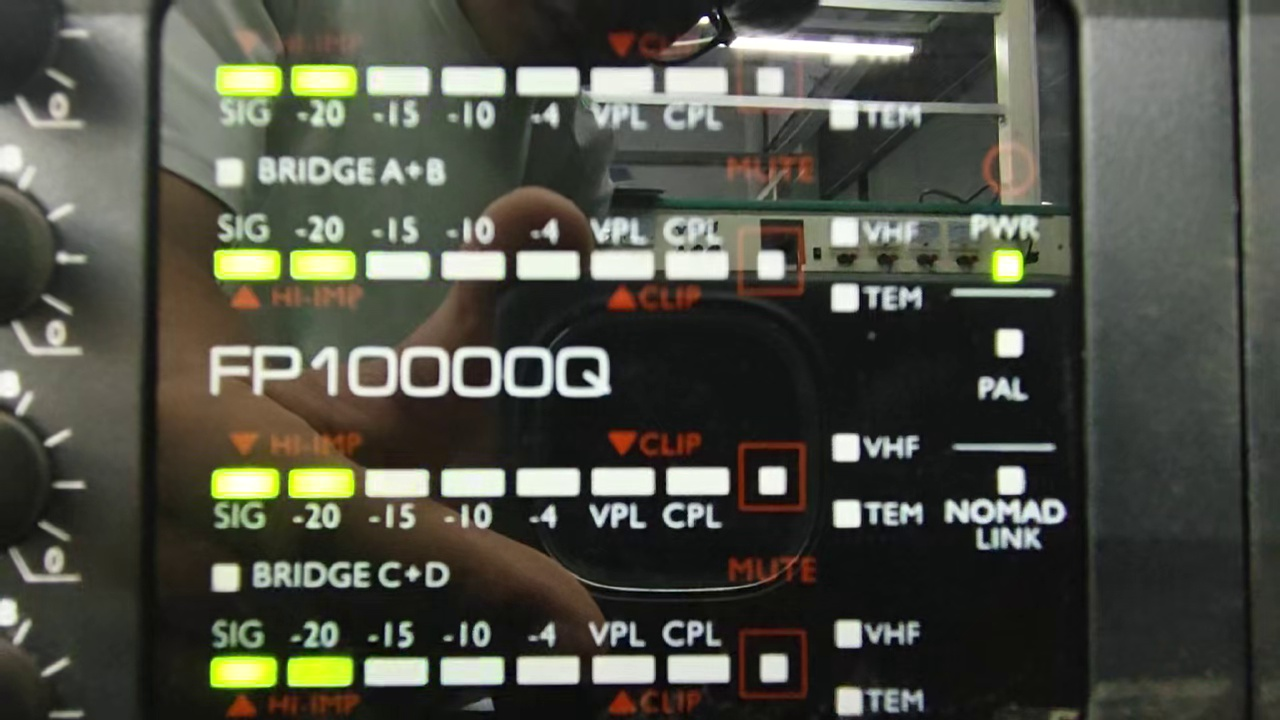FP_CPL: (659, 60, 732, 145), (662, 209, 732, 289), (658, 457, 730, 534), (662, 613, 733, 689)
FP_PWR: (961, 203, 1045, 287)
FP_PWR_area: (950, 134, 1052, 293)
FP_SIG_area: (207, 206, 926, 325), (195, 611, 924, 718), (206, 427, 926, 534), (210, 52, 934, 144)
FP_VPL: (586, 56, 655, 147), (585, 612, 657, 689), (586, 460, 659, 533), (587, 209, 656, 286)
